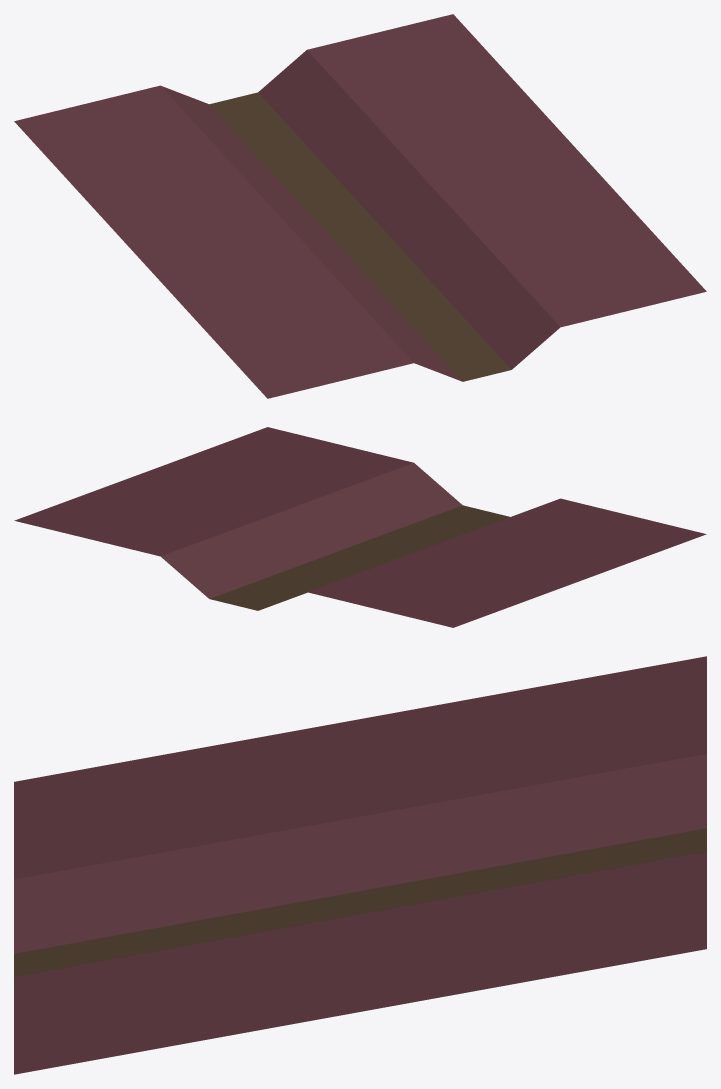
Rendered from tiles-nb-tile-river-basin-hill-nb.glb.
The picture shows the model from 3 angles, top to bottom: view 1: azimuth 30°, elevation 25°; view 2: azimuth 150°, elevation 25°; view 3: azimuth 270°, elevation 25°; orthographic projection. The views are drawn at different scales.
Parts seen in each view (by area): view 1: tile-river-basin-hill-nb; view 2: tile-river-basin-hill-nb; view 3: tile-river-basin-hill-nb.
Part boxes in pixels (x1,y1,x2,y2): tile-river-basin-hill-nb: (14,14,706,398); tile-river-basin-hill-nb: (14,427,706,627); tile-river-basin-hill-nb: (14,656,706,1074).
Size of the model in its own units: 30 by 8 by 30.
